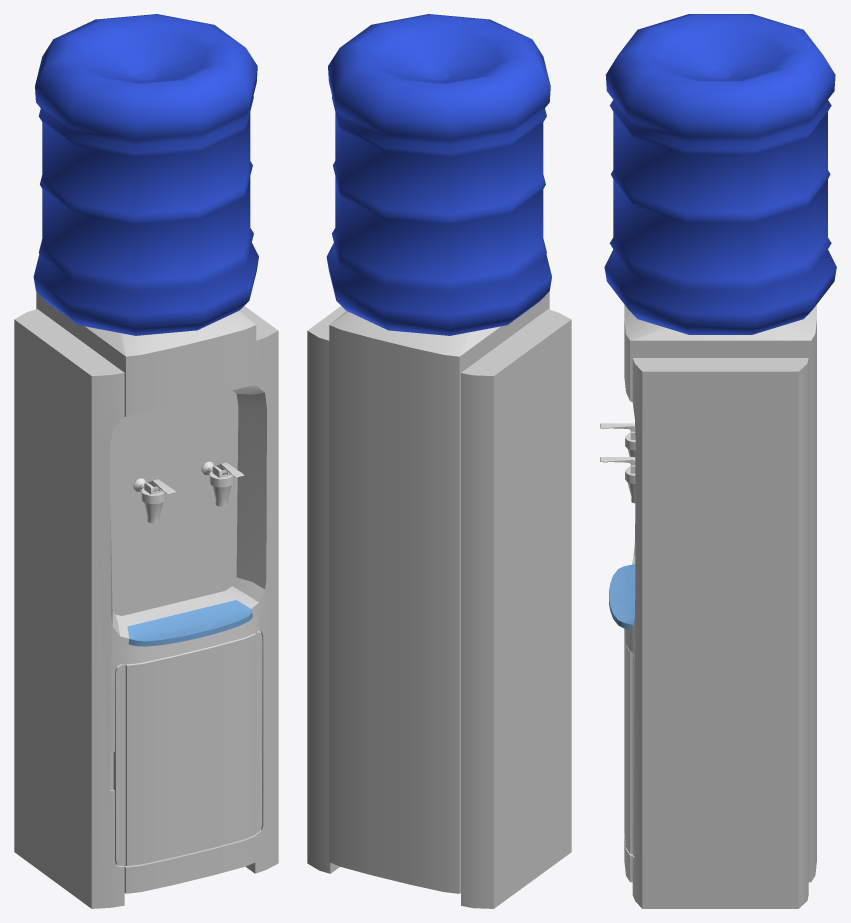
Rendered from water_dispenser.glb.
3 renders of one model, left to right at view 1: azimuth 30°, elevation 25°; view 2: azimuth 150°, elevation 25°; view 3: azimuth 270°, elevation 25°, orthographic.
Visible parts, largest first — view 1: wd, water, wd_door, switch; view 2: wd, water; view 3: wd, water, wd_door, switch.
Part boxes in pixels (bbox=[...]): wd: bbox=[14, 292, 278, 908]; water: bbox=[33, 14, 258, 335]; wd_door: bbox=[113, 630, 262, 865]; switch: bbox=[133, 461, 244, 523]; wd: bbox=[307, 291, 571, 908]; water: bbox=[326, 14, 551, 335]; wd: bbox=[609, 304, 816, 908]; water: bbox=[604, 14, 836, 334]; wd_door: bbox=[624, 631, 634, 855]; switch: bbox=[600, 423, 635, 503].
Size of the model in its own units: 1.29 by 5.23 by 1.38.
